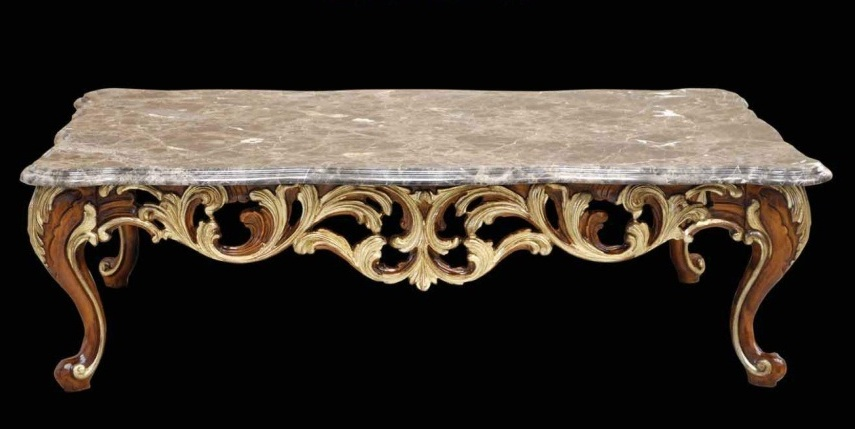Carving Table: (34, 77, 842, 413)
